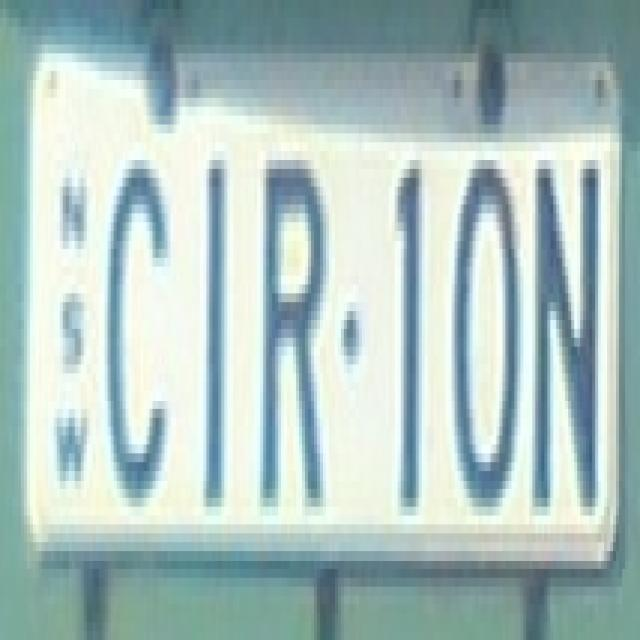licenseplate: (18, 32, 622, 622)
